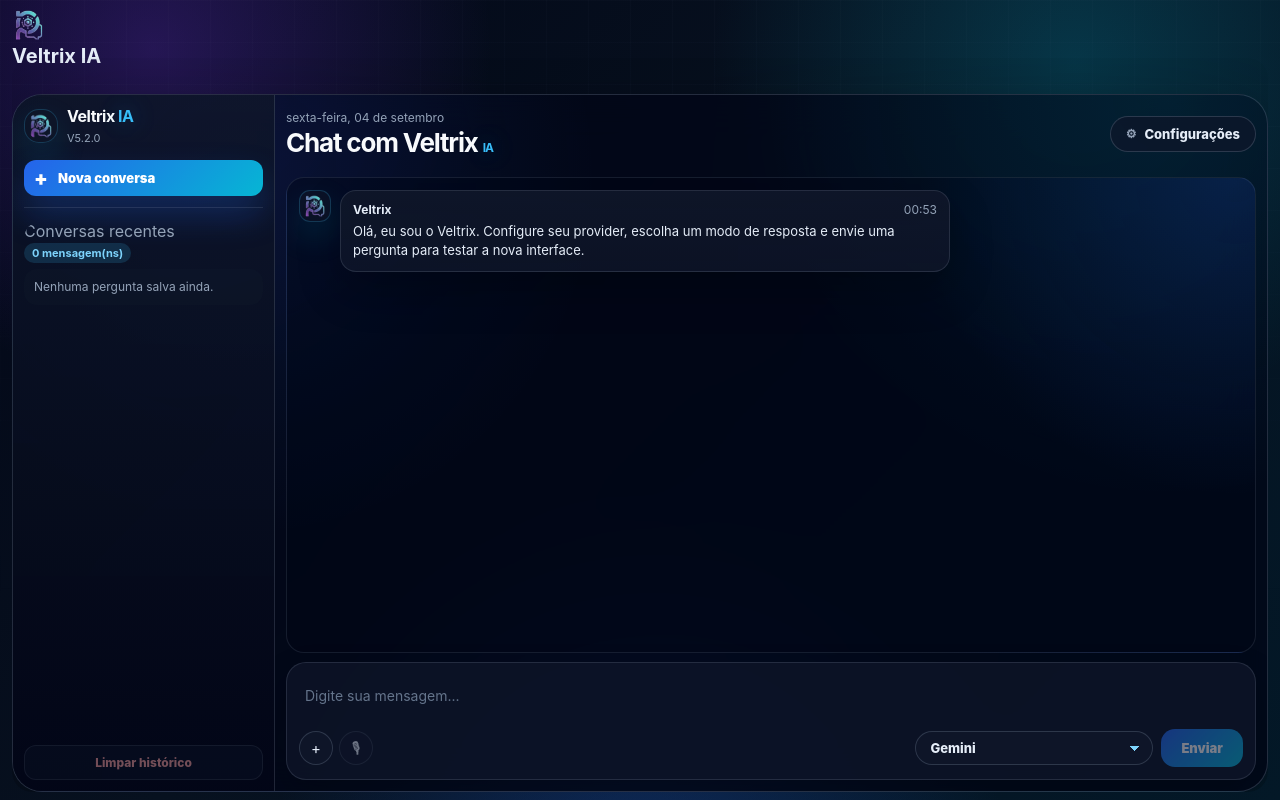
it: ChatPage — verdade sobre quem respondeu › resposta do Gemini aparece como resposta do Gemini
Type "Me fale o que foi feito recentemente no sistema." into the text box named "Mensagem para o Veltrix" at {"x": 771, "y": 698}, box [299,675,1243,721]
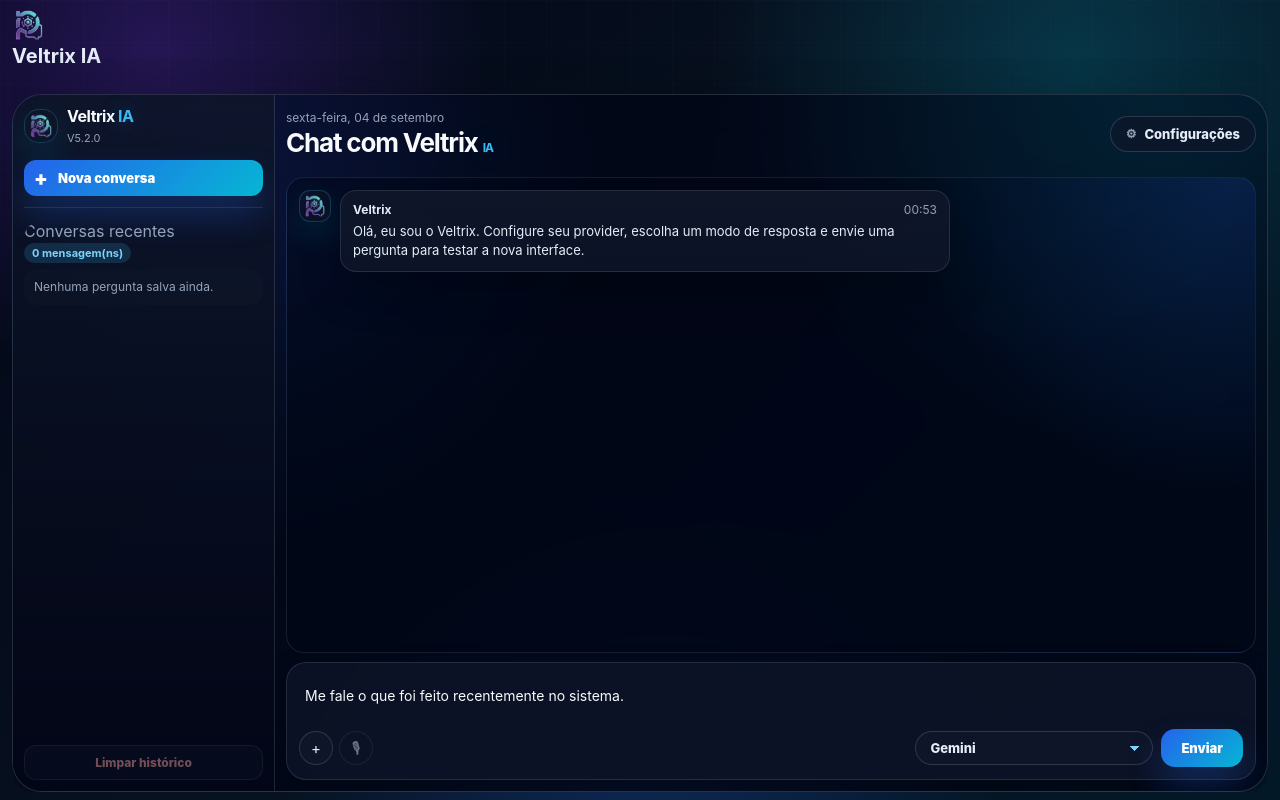
Click the button "Enviar" at {"x": 1202, "y": 748}, box [1161,729,1243,767]
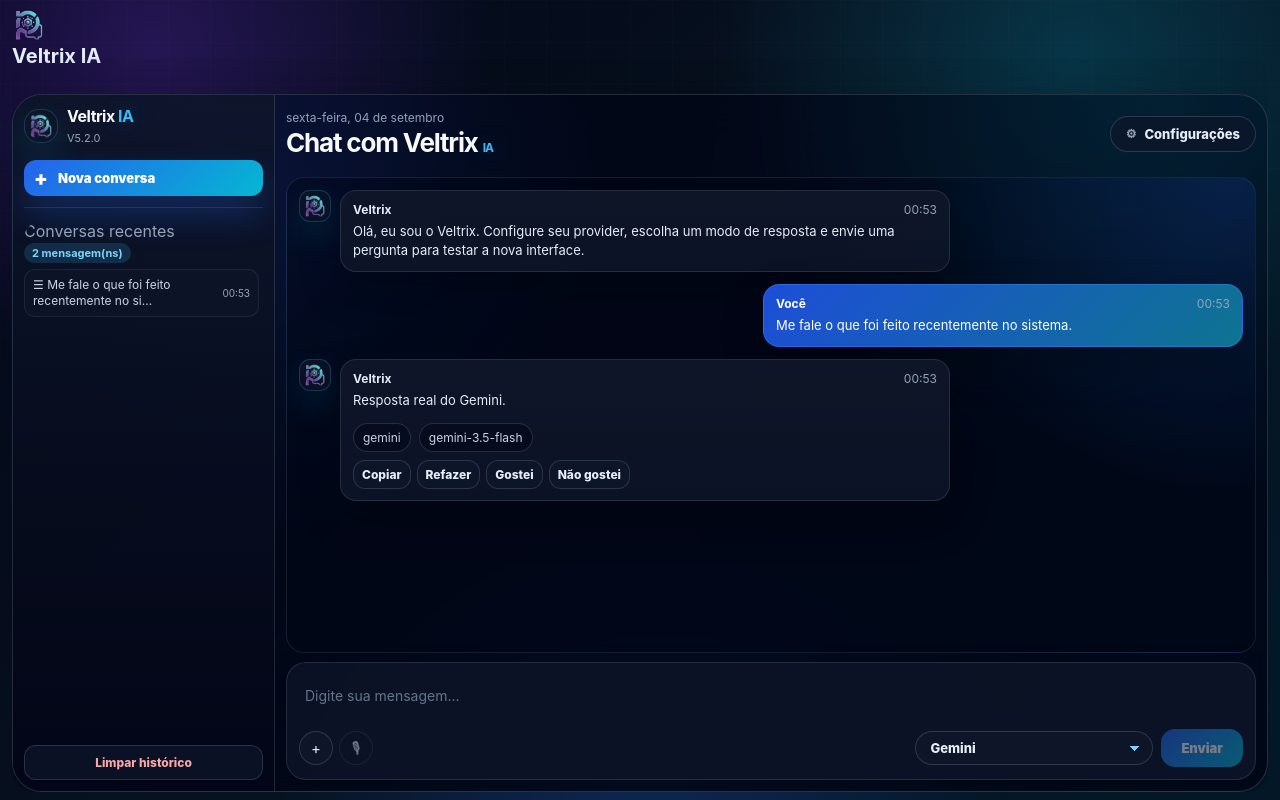
expect the text "Resposta real do Gemini." is shown: met, box [353,392,506,408]
